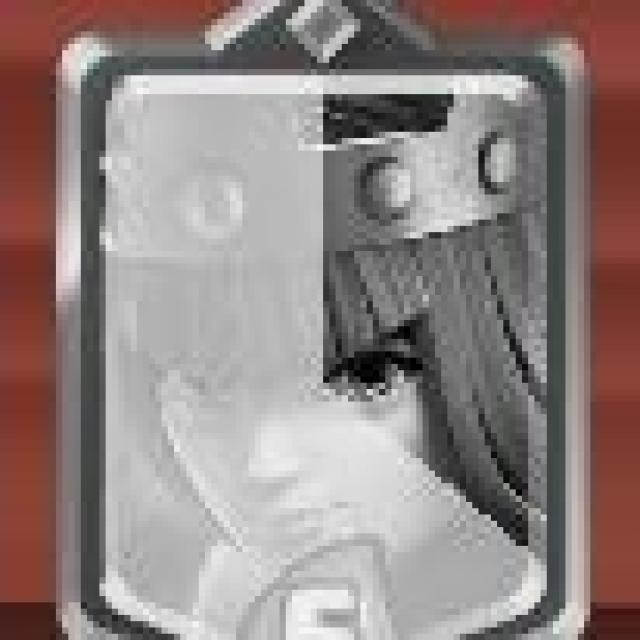Archer_Queen: (41, 0, 596, 634)
